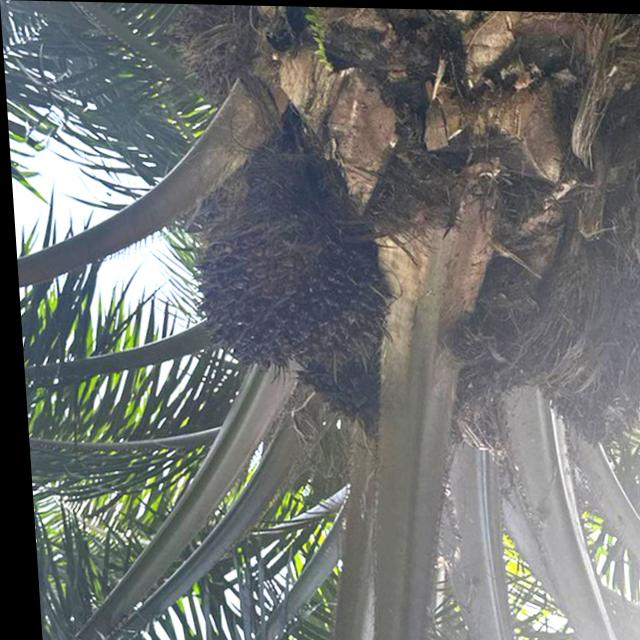ripe: (166, 177, 405, 399)
